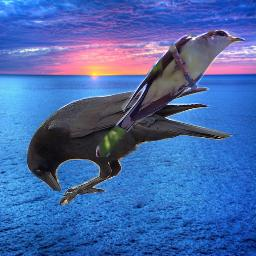Crow: (26, 87, 234, 208)
Cuckoo: (96, 29, 245, 157)
